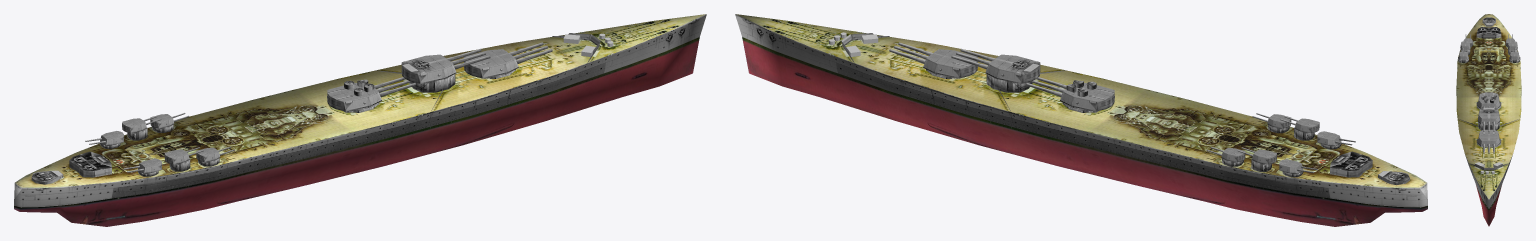
Rendered from battleshipBottom.obj.
3 renders of one model, left to right at view 1: azimuth 30°, elevation 25°; view 2: azimuth 150°, elevation 25°; view 3: azimuth 270°, elevation 25°, orthographic. The views are drawn at different scales.
Visible parts, largest first — view 1: Plane, Plane.002_Plane.005, Plane.001, Plane.003_Plane.006, Plane.023_Plane.029, Cube_Cube.001, Plane.026_Plane.032; view 2: Plane, Plane.002_Plane.005, Plane.001, Plane.003_Plane.006, Plane.023_Plane.029, Cube_Cube.001, Plane.026_Plane.032; view 3: Plane, Plane.002_Plane.005, Plane.001, Plane.023_Plane.029, Plane.003_Plane.006, Plane.020_Plane.026, Plane.026_Plane.032, Cube_Cube.001, Plane.035_Plane.009, Plane.034_Plane.004, Plane.011_Plane.015, Plane.010_Plane.014 (+4 smaller).
Part boxes in pixels (bbox=[...]): Plane: bbox=[14, 14, 706, 226]; Plane.002_Plane.005: bbox=[401, 54, 456, 83]; Plane.001: bbox=[464, 49, 518, 78]; Plane.003_Plane.006: bbox=[327, 83, 381, 111]; Plane.023_Plane.029: bbox=[69, 151, 111, 177]; Cube_Cube.001: bbox=[409, 74, 455, 92]; Plane.026_Plane.032: bbox=[31, 170, 63, 184]; Plane: bbox=[735, 14, 1427, 226]; Plane.002_Plane.005: bbox=[985, 54, 1040, 83]; Plane.001: bbox=[923, 49, 977, 78]; Plane.003_Plane.006: bbox=[1060, 83, 1114, 111]; Plane.023_Plane.029: bbox=[1330, 151, 1372, 177]; Cube_Cube.001: bbox=[986, 74, 1032, 92]; Plane.026_Plane.032: bbox=[1378, 171, 1409, 185]; Plane: bbox=[1456, 14, 1521, 226]; Plane.002_Plane.005: bbox=[1477, 107, 1500, 124]; Plane.001: bbox=[1477, 129, 1500, 147]; Plane.023_Plane.029: bbox=[1476, 27, 1501, 38]; Plane.003_Plane.006: bbox=[1477, 92, 1500, 108]; Plane.020_Plane.026: bbox=[1469, 163, 1508, 170]; Plane.026_Plane.032: bbox=[1482, 17, 1495, 26]; Cube_Cube.001: bbox=[1478, 121, 1499, 130]; Plane.035_Plane.009: bbox=[1509, 51, 1519, 60]; Plane.034_Plane.004: bbox=[1508, 41, 1517, 49]; Plane.011_Plane.015: bbox=[1460, 41, 1470, 49]; Plane.010_Plane.014: bbox=[1458, 51, 1468, 60].
Size of the model in its own units: 92.71 by 9.82 by 13.56.
4 materials, 3 textured.
